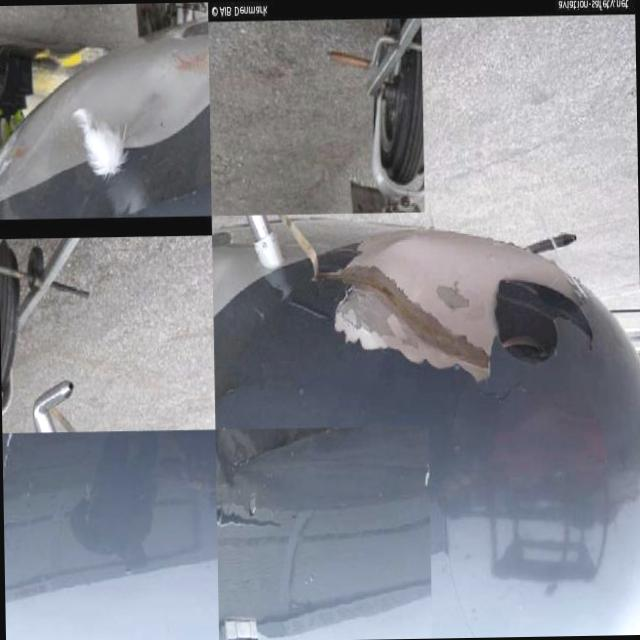crack: (478, 374, 528, 406)
dent: (352, 229, 488, 356), (130, 72, 178, 136)
